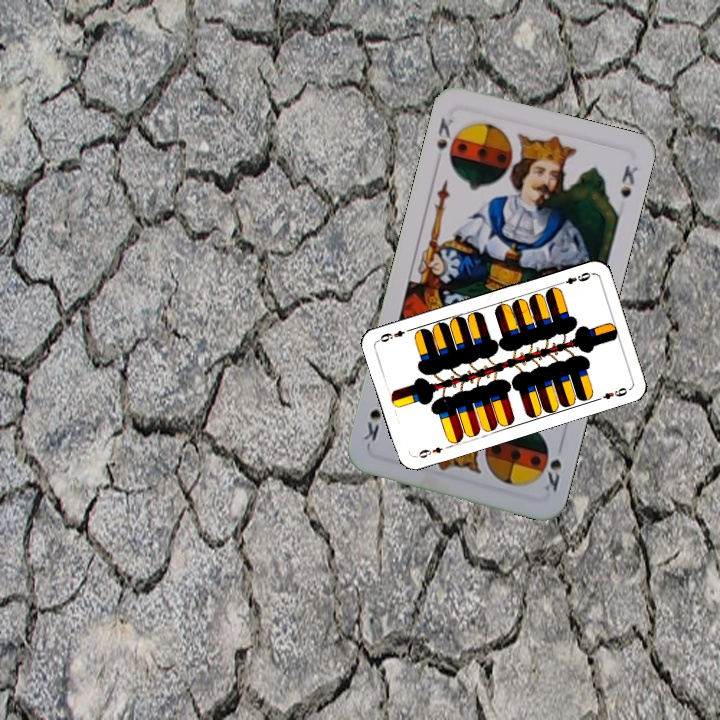E9: (555, 268, 593, 288), (412, 442, 452, 461)
SK: (431, 113, 462, 168), (540, 454, 565, 494)
